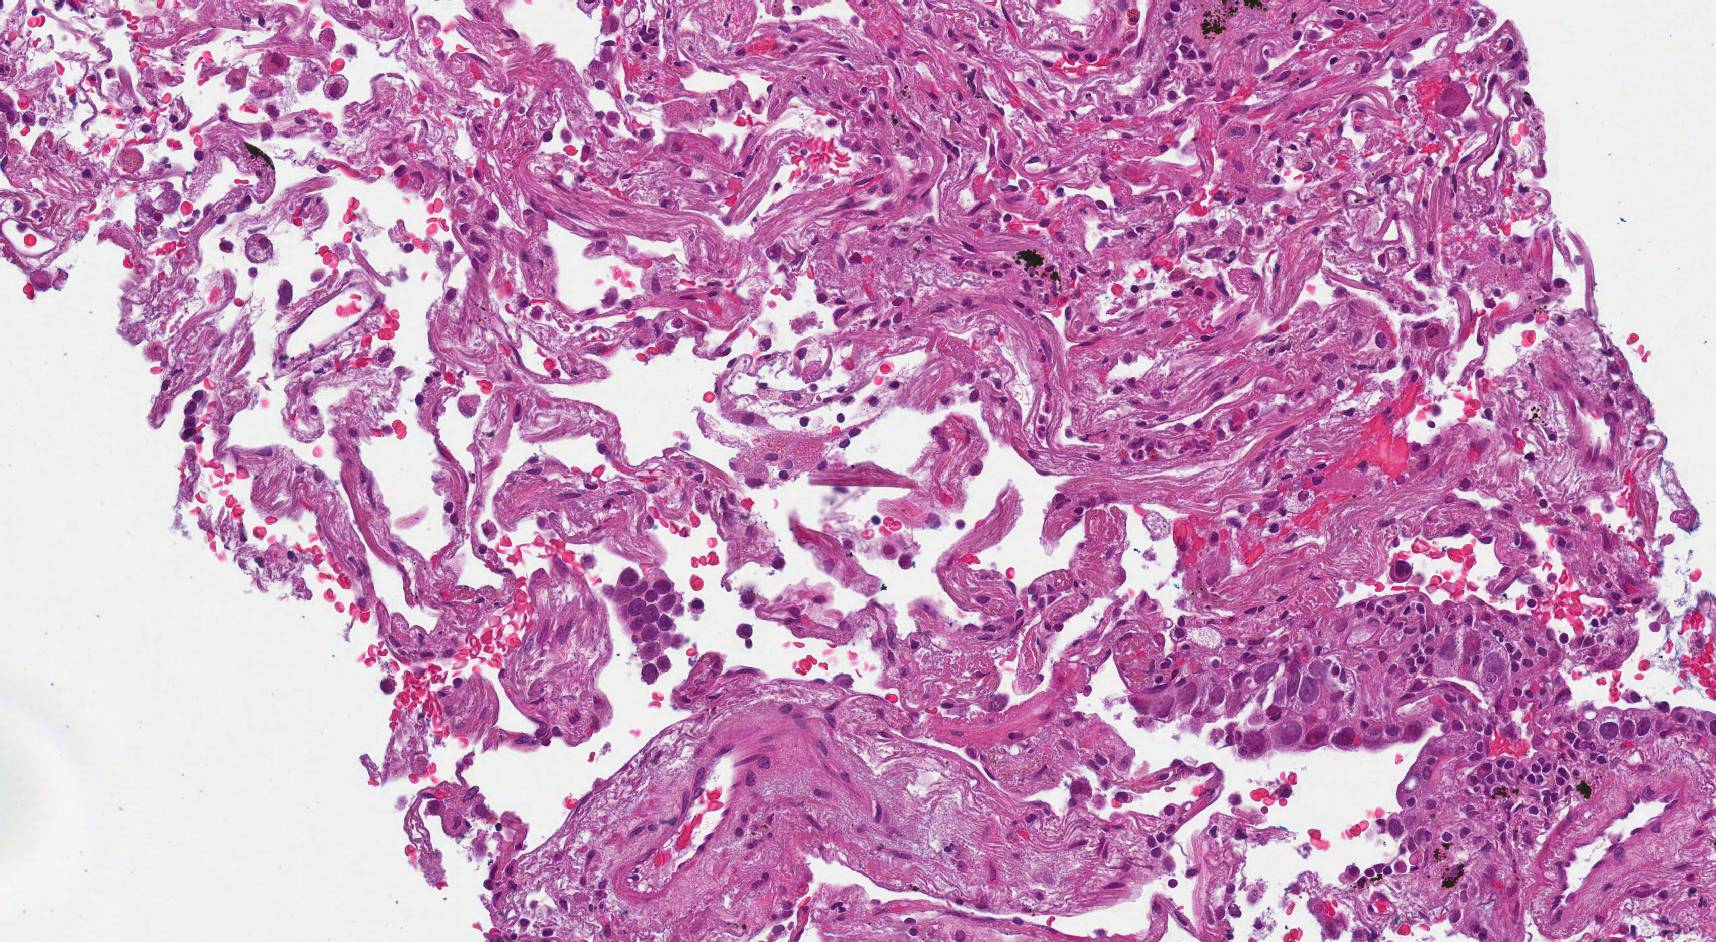stas: (605, 566, 688, 683)
